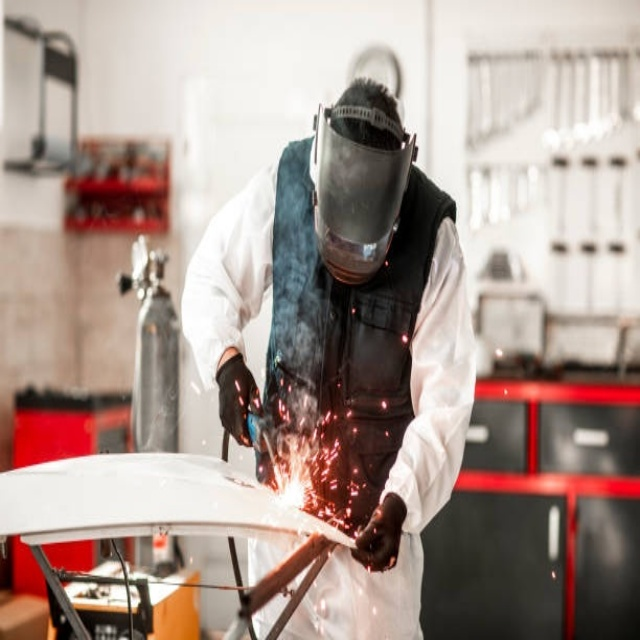Guantes: (352, 492, 407, 573), (217, 354, 261, 451)
